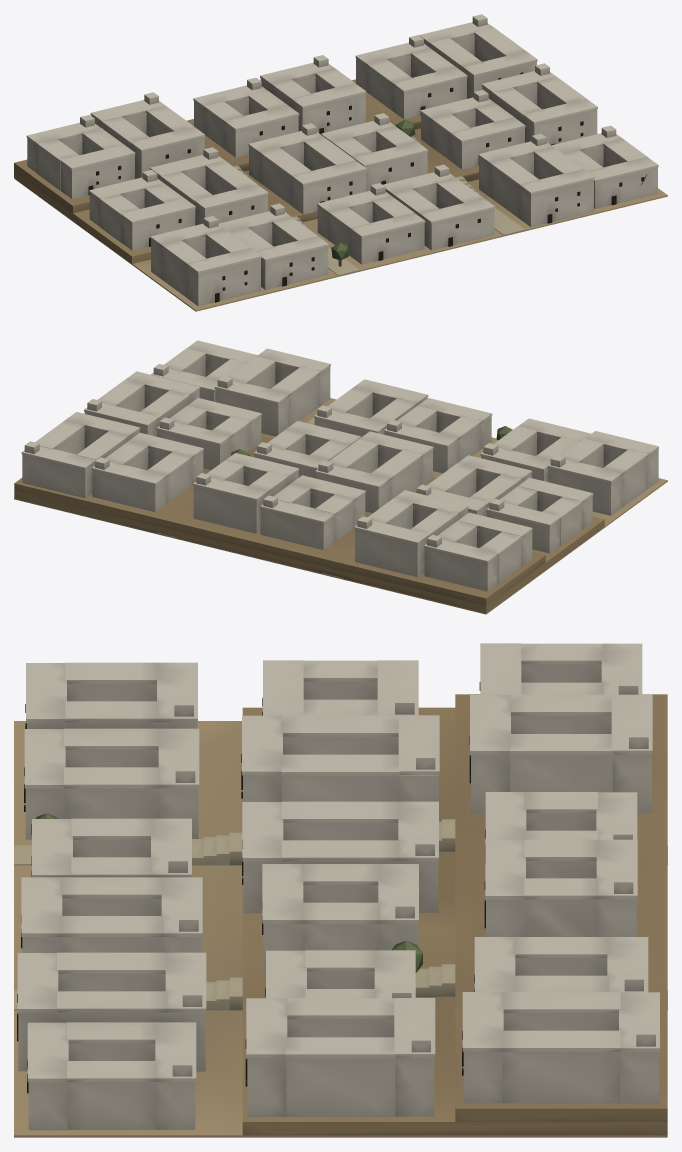
The model's file is hannibal-quarter.glb.
The picture shows the model from 3 angles, top to bottom: view 1: azimuth 30°, elevation 25°; view 2: azimuth 150°, elevation 25°; view 3: azimuth 270°, elevation 25°; orthographic projection. The views are drawn at different scales.
Visible parts, largest first — view 1: p1_houses, p0_terraces, p2_stage2; view 2: p1_houses, p0_terraces; view 3: p1_houses, p0_terraces.
Boxes of the visible parts, x1,y1,x2,y2 form: p1_houses: [26, 14, 658, 306]; p0_terraces: [14, 79, 667, 311]; p2_stage2: [331, 119, 647, 266]; p1_houses: [21, 340, 658, 591]; p0_terraces: [14, 398, 667, 614]; p1_houses: [17, 643, 659, 1130]; p0_terraces: [14, 694, 667, 1137].
Size of the model in its own units: 120 by 14 by 80.05.
